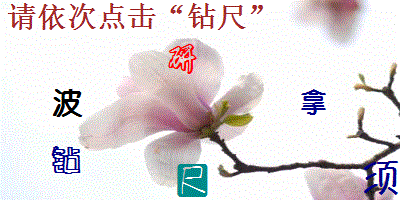result: (187, 1, 248, 32)
text: (361, 159, 399, 198), (50, 85, 87, 120), (175, 161, 209, 198), (49, 144, 83, 178), (166, 44, 198, 75), (299, 87, 328, 117)
